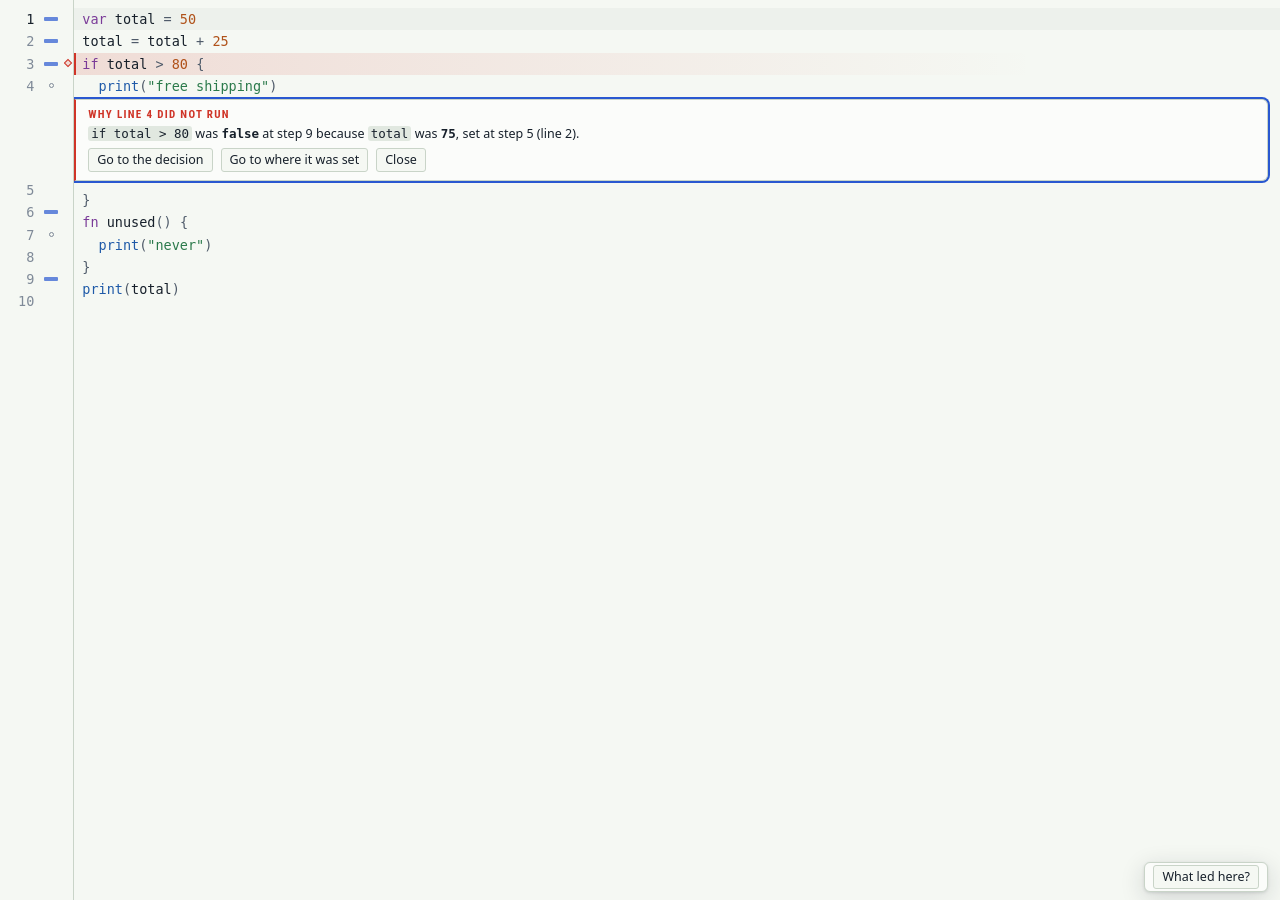
Scenario: lines that did not run › the heat gutter marks them, and asking explains under the line
The width and height of the screenshot is (1280, 900).
Expected: the number of elements with class "ed-heat-idle" is 2, [44,75,58,97]; [44,224,58,246]
Expected: the field with class "cm-content" is shown, [74,8,1279,297]
Click the button "Go to where it was set" at (294, 160), box [220,148,368,172]
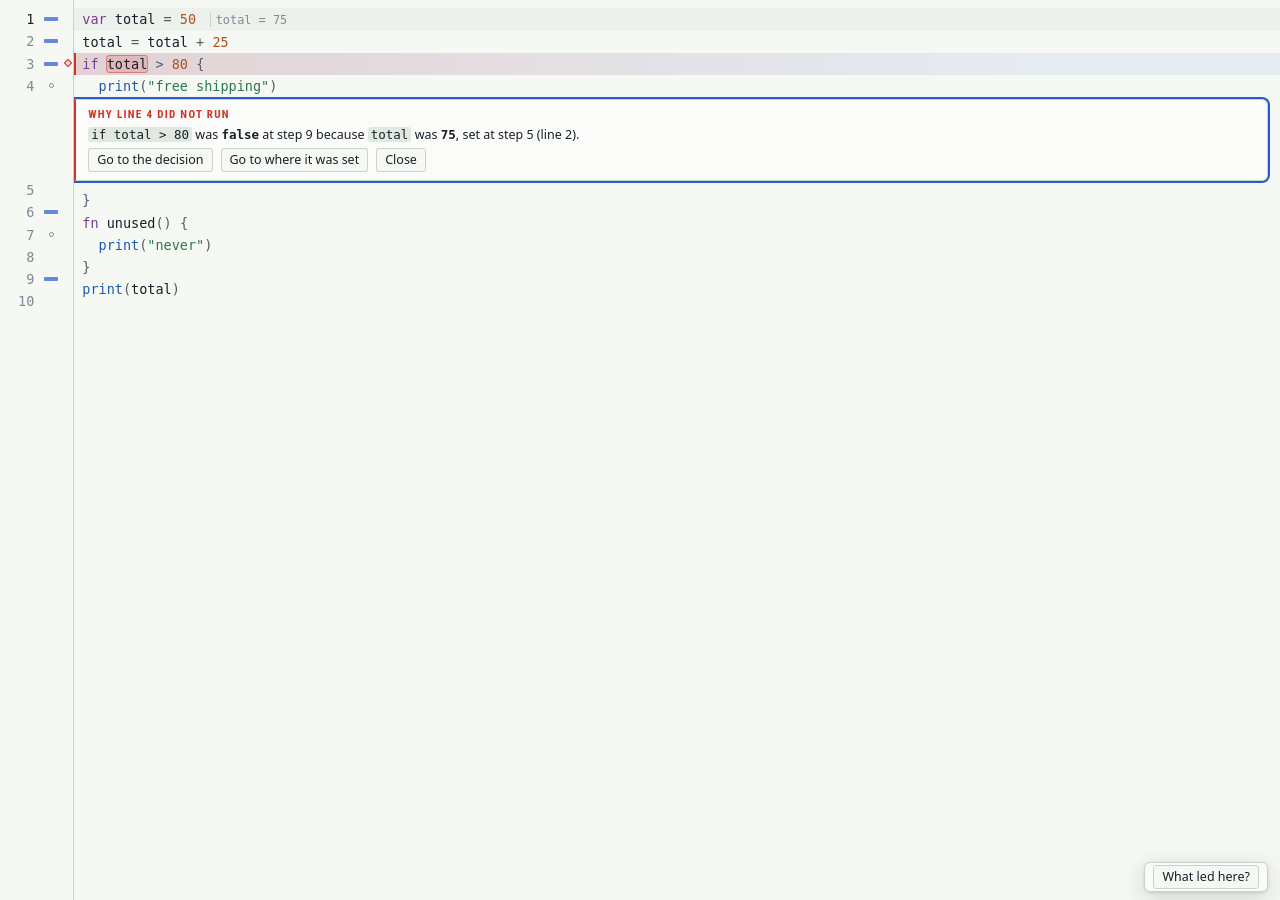
Click the button "Go to the decision" at (150, 160), box [88,148,213,172]
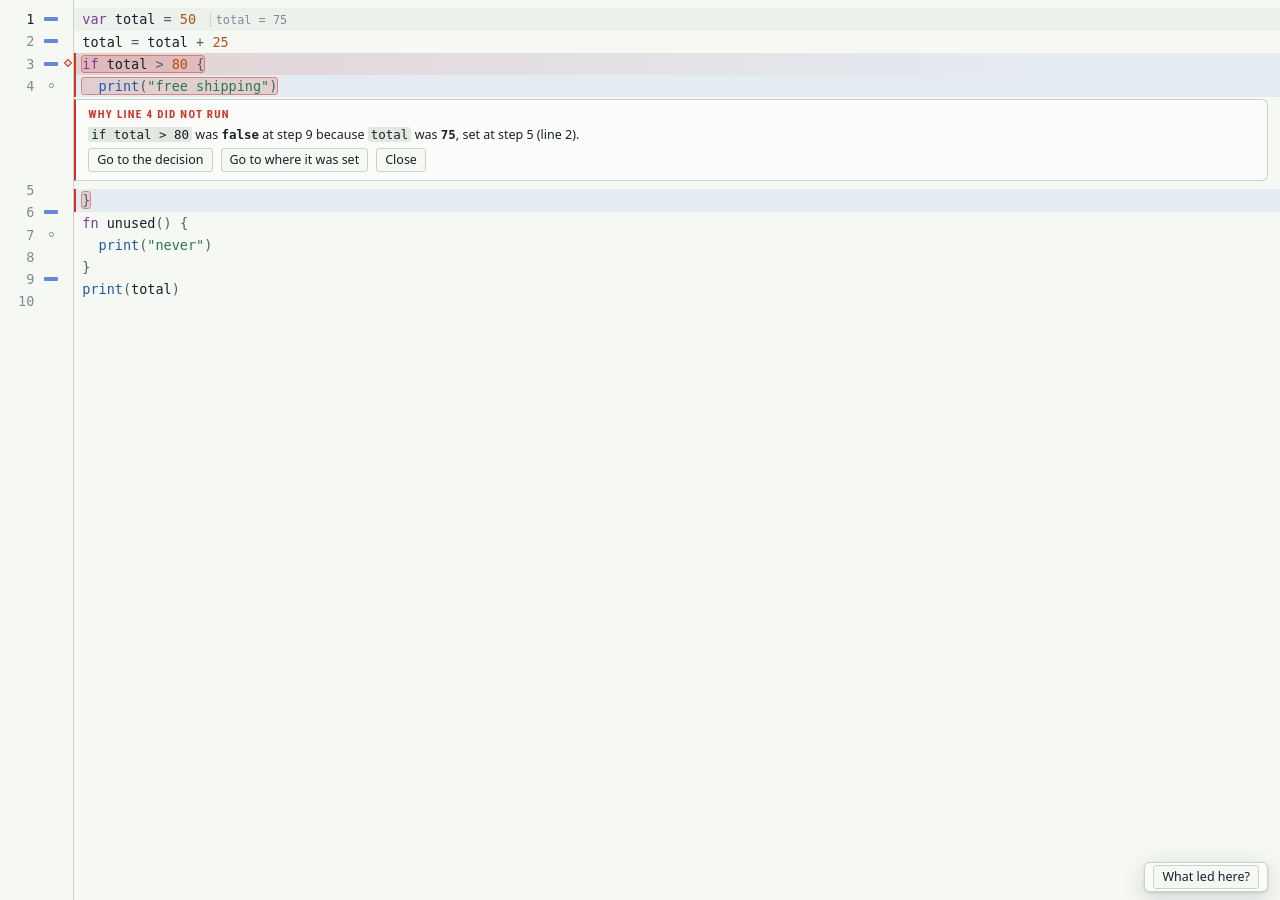
Press Escape in the element "Why line 4 did not run", box [74,99,1268,181]
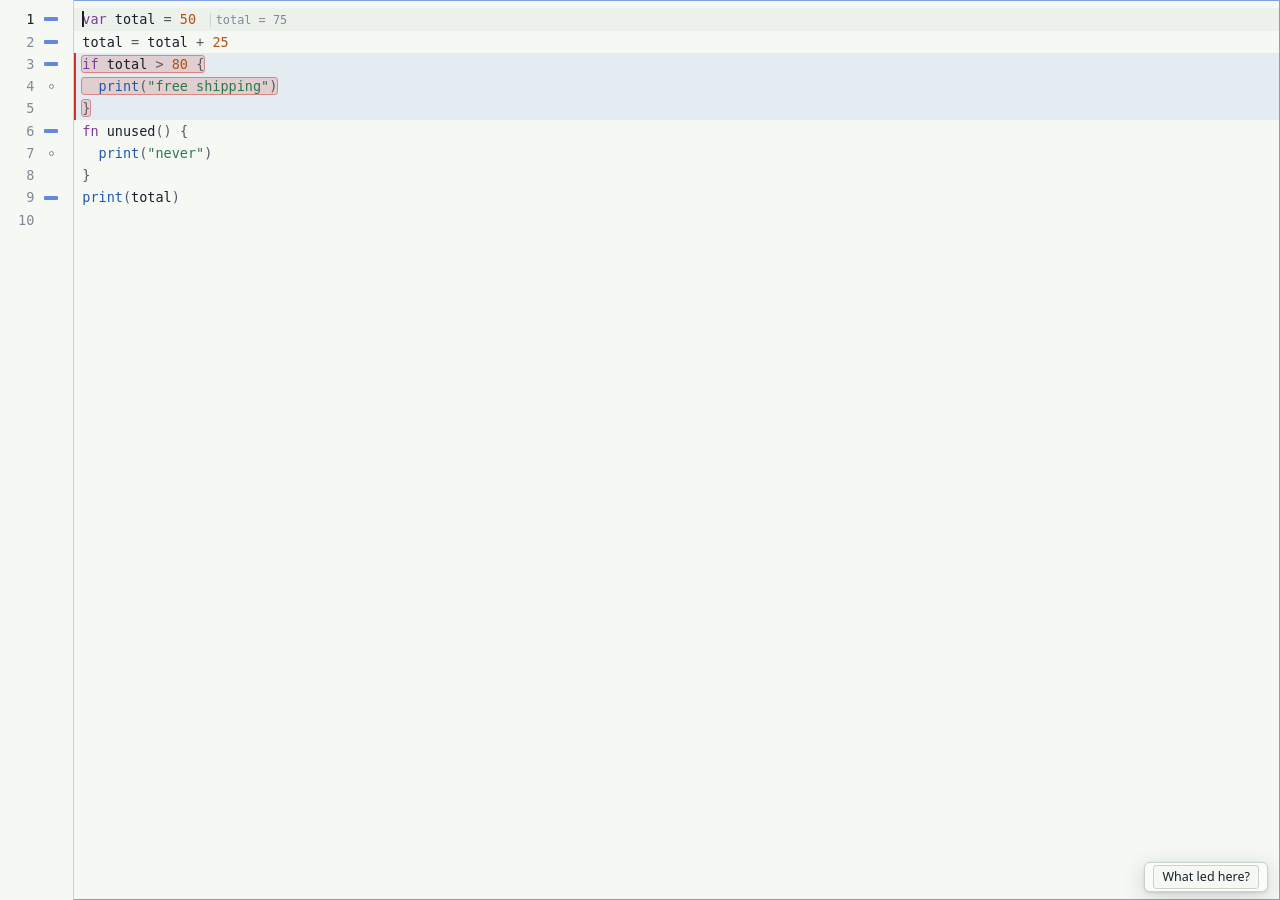
Expected: the text "Why line 4 did not run" is gone
